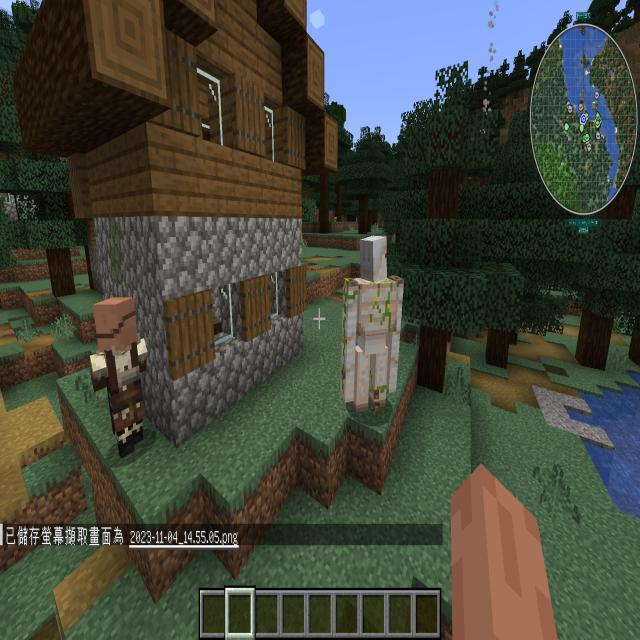iron golem: (328, 221, 423, 438)
